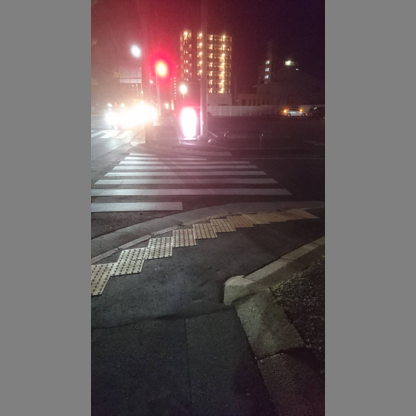brailleblock: (115, 242, 149, 273), (92, 261, 113, 293), (243, 212, 315, 221), (148, 236, 170, 261), (168, 227, 196, 246), (227, 214, 245, 229), (195, 222, 209, 241), (235, 212, 249, 229), (213, 219, 229, 230)
crosswalk: (91, 148, 299, 211)
signal: (147, 53, 171, 79)
